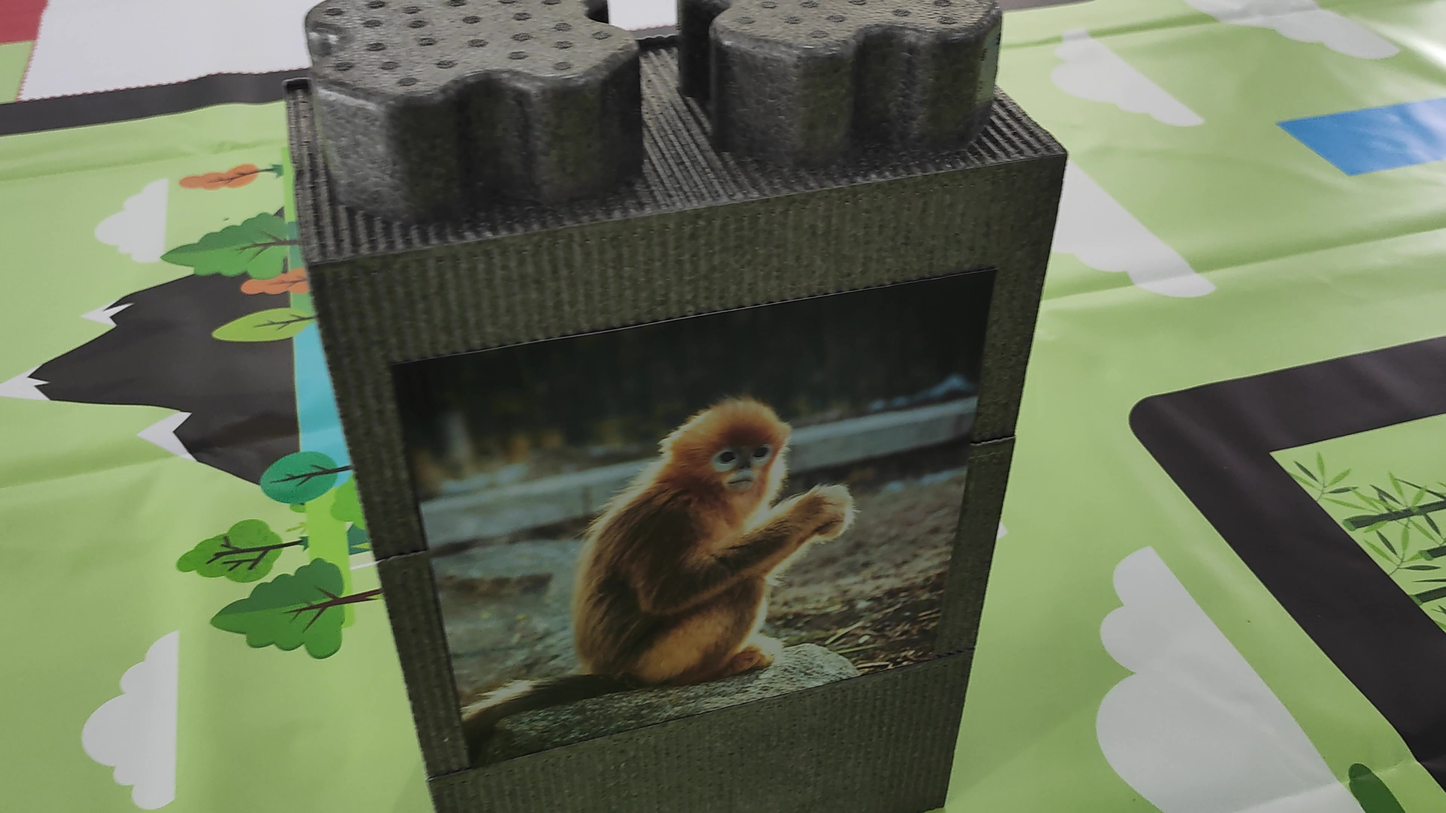monkey: (439, 393, 886, 739)
